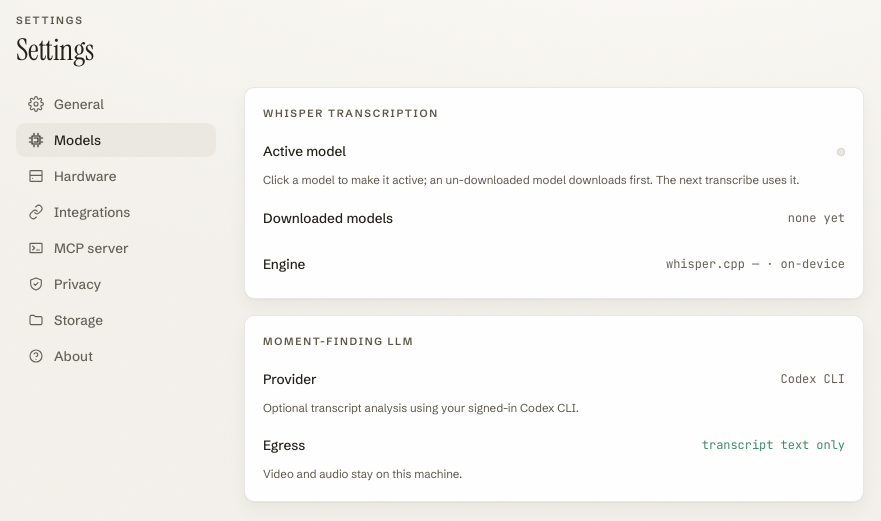
it: privacy settings UI › renders a confirmed Codex opt-in as enabled
Click the button "Privacy": (116,284) [16, 267, 216, 301]
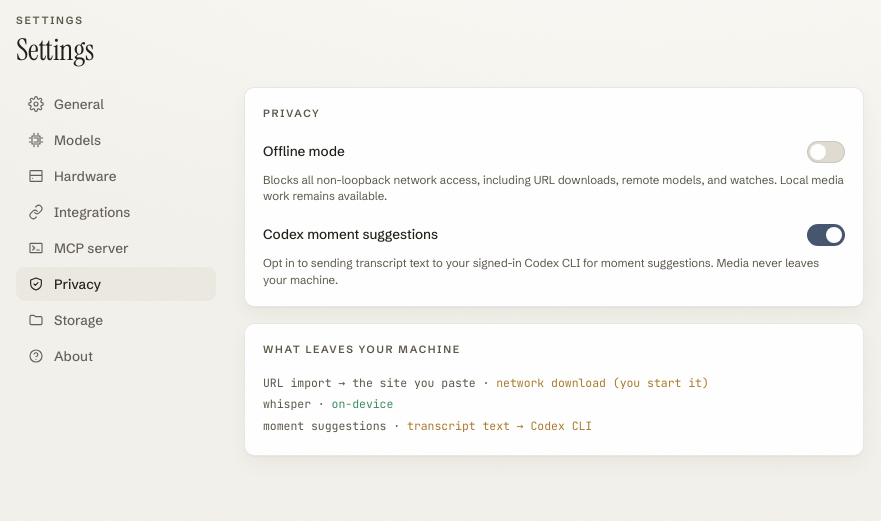
Expected: the switch named "Codex moment suggestions" is checked, [807, 224, 845, 246]
Expected: the text "transcript text → Codex CLI" is shown, [407, 418, 592, 433]
